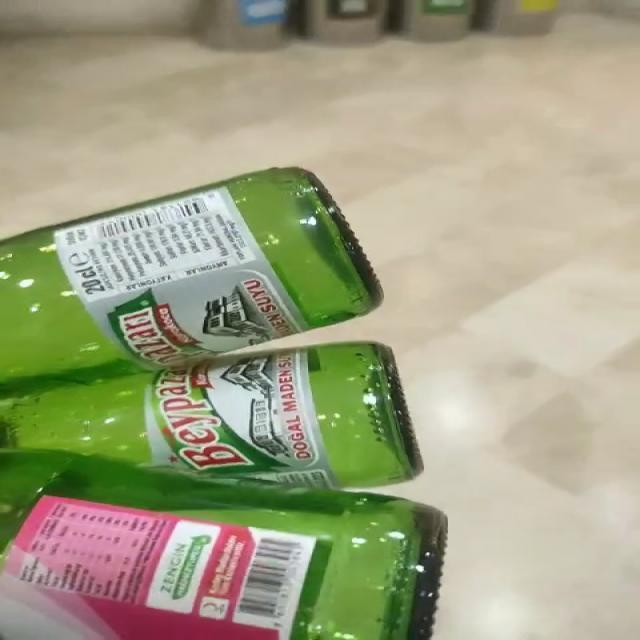Glass: (1, 167, 447, 640)
